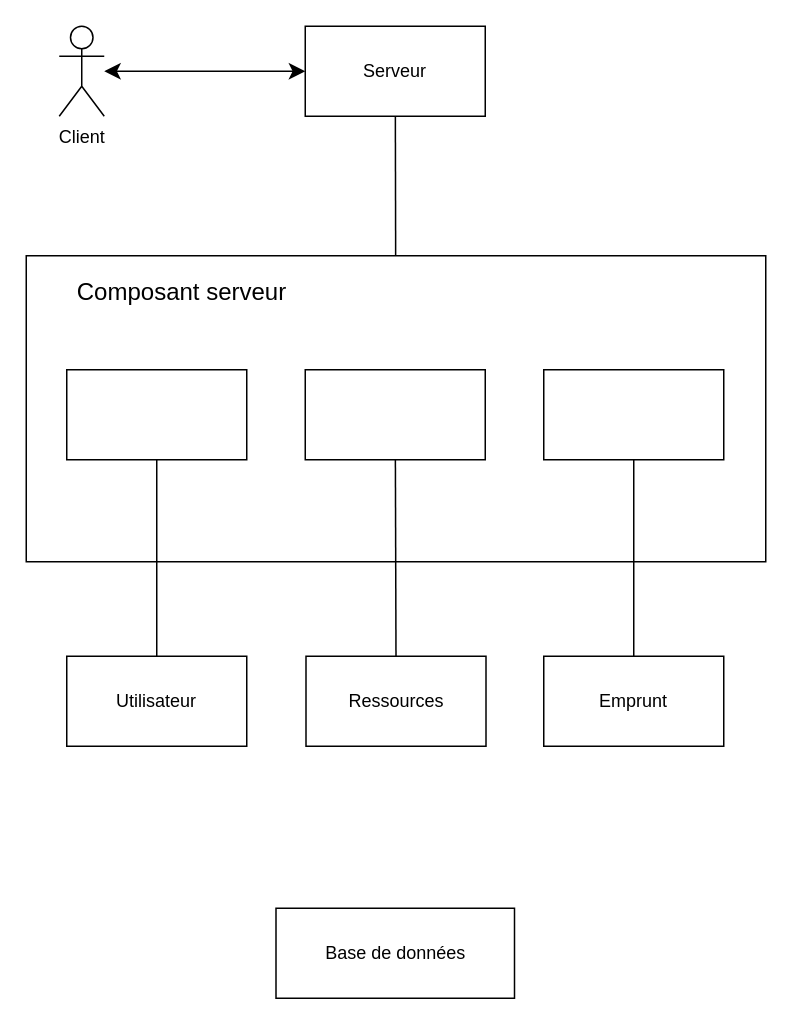
This 792x1025 diagram has some shape labels left out. Each missing label, with the box of its shape:
GestionEmprunt: (542, 368, 724, 460)
GestionRess: (304, 368, 485, 460)
GestionUser: (65, 368, 247, 460)
